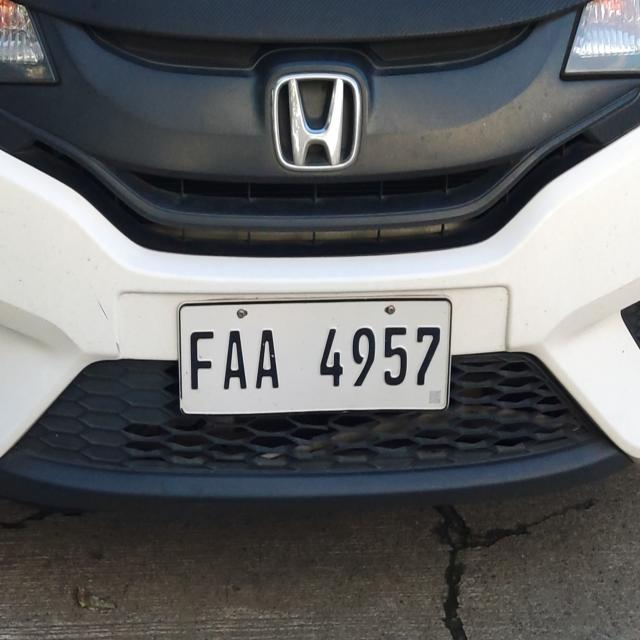plate: (172, 289, 457, 420)
